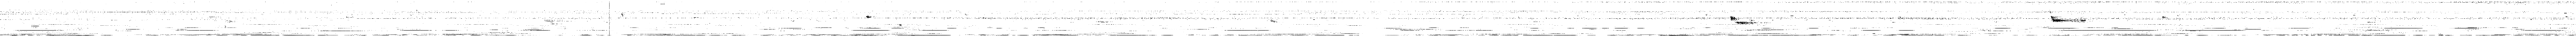meteor: (2052, 16, 2086, 21), (1733, 21, 1758, 25), (1730, 16, 1736, 21), (866, 16, 872, 18)
